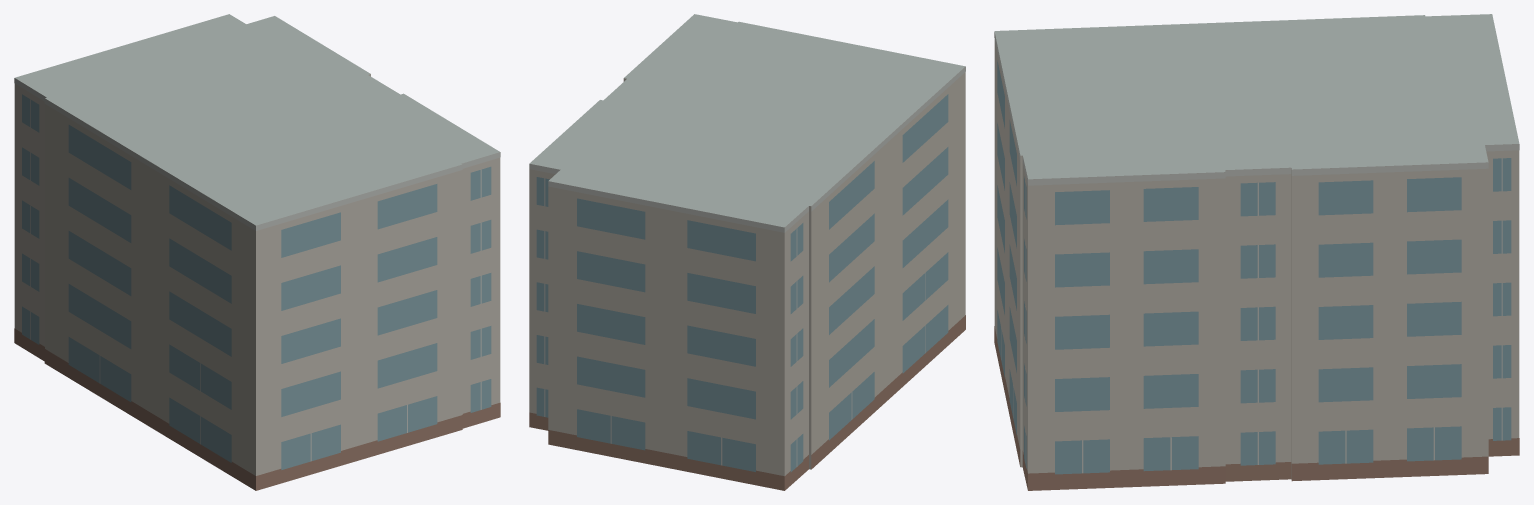
The model's file is survey-upis-32607511.glb.
3 views of the same model, side by side, from view 1: azimuth 30°, elevation 25°; view 2: azimuth 150°, elevation 25°; view 3: azimuth 270°, elevation 25° (orthographic). The views are drawn at different scales.
Visible parts, largest first — view 1: survey-upis-32607511.tmp; view 2: survey-upis-32607511.tmp; view 3: survey-upis-32607511.tmp.
Part boxes in pixels (x1,y1,x2,y2): survey-upis-32607511.tmp: (14, 14, 500, 490); survey-upis-32607511.tmp: (529, 14, 965, 490); survey-upis-32607511.tmp: (994, 14, 1519, 490).
Bounding box in the file's own units: 13.55 × 11.9 × 18.18.
